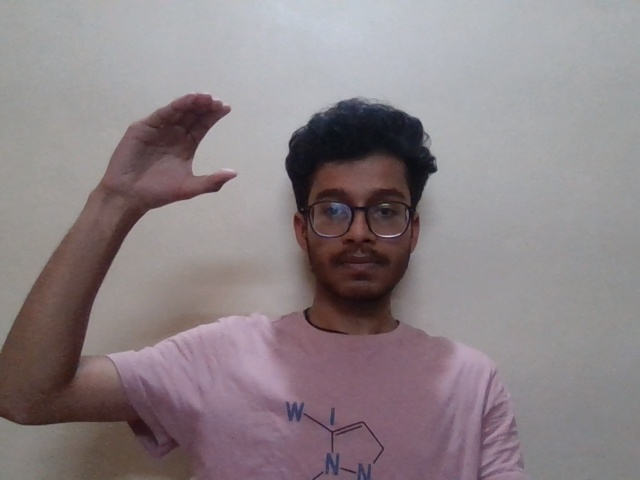C: (104, 86, 248, 231)
